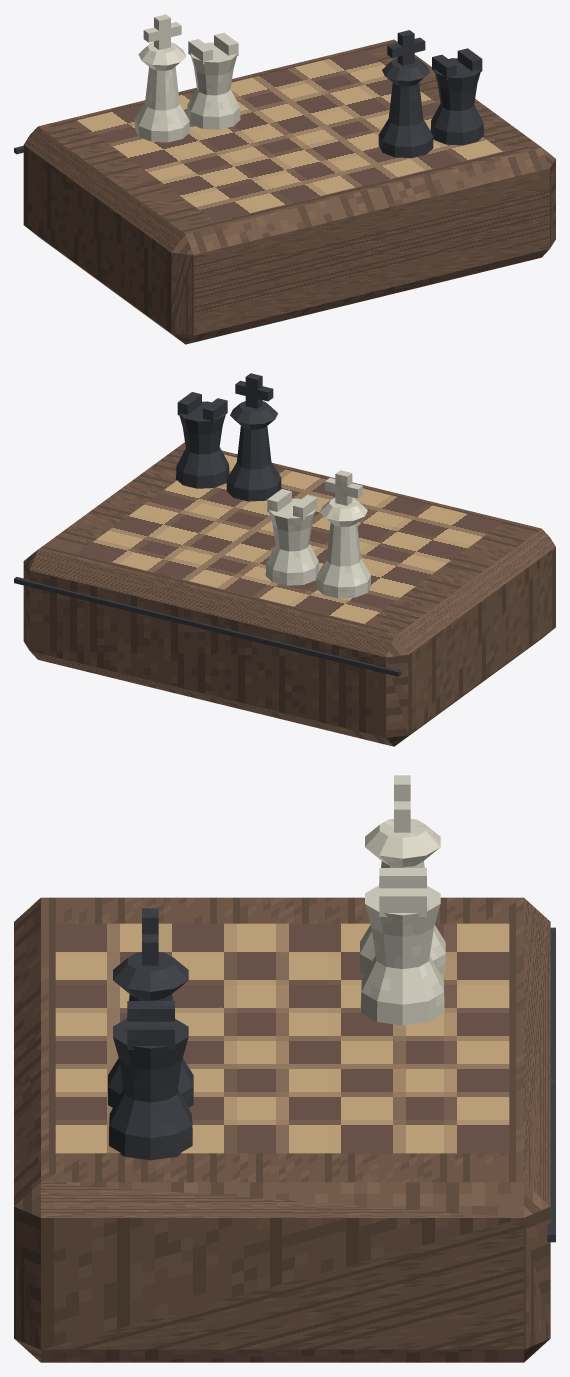
The model's file is small_chess.glb.
3 views of the same model, one above another, from view 1: azimuth 30°, elevation 25°; view 2: azimuth 150°, elevation 25°; view 3: azimuth 270°, elevation 25° (orthographic). The views are drawn at different scales.
Visible parts, largest first — view 1: block_game box, block_checkerboard, block_turned chess king (×2), block_rook turret (×2), block_rook crenellation (×4), block_king cross (×2); view 2: block_game box, block_checkerboard, block_turned chess king (×2), block_rook turret (×2), block_lid seam, block_king cross (×2); view 3: block_game box, block_checkerboard, block_rook turret (×2), block_turned chess king (×2), block_rook crenellation (×4), block_lid seam.
Part boxes in pixels (x1=…): block_game box: x1=23, y1=39, x2=555, y2=344; block_checkerboard: x1=77, y1=50, x2=502, y2=221; block_turned chess king (×2): x1=135, y1=42, x2=433, y2=158; block_rook turret (×2): x1=187, y1=42, x2=484, y2=145; block_rook crenellation (×4): x1=188, y1=33, x2=482, y2=79; block_king cross (×2): x1=154, y1=14, x2=414, y2=65; block_game box: x1=23, y1=442, x2=555, y2=746; block_checkerboard: x1=77, y1=454, x2=502, y2=623; block_turned chess king (×2): x1=226, y1=401, x2=370, y2=598; block_rook turret (×2): x1=176, y1=401, x2=319, y2=585; block_lid seam: x1=14, y1=577, x2=401, y2=676; block_king cross (×2): x1=245, y1=373, x2=352, y2=505; block_game box: x1=14, y1=897, x2=550, y2=1362; block_checkerboard: x1=55, y1=923, x2=509, y2=1153; block_rook turret (×2): x1=109, y1=885, x2=444, y2=1160; block_turned chess king (×2): x1=108, y1=818, x2=445, y2=1107; block_rook crenellation (×4): x1=127, y1=868, x2=426, y2=1049; block_lid seam: x1=547, y1=927, x2=555, y2=1242.
Size of the model in its own units: 0.15 by 0.0838 by 0.1118.
Materials: 1 (1 with a texture image).
